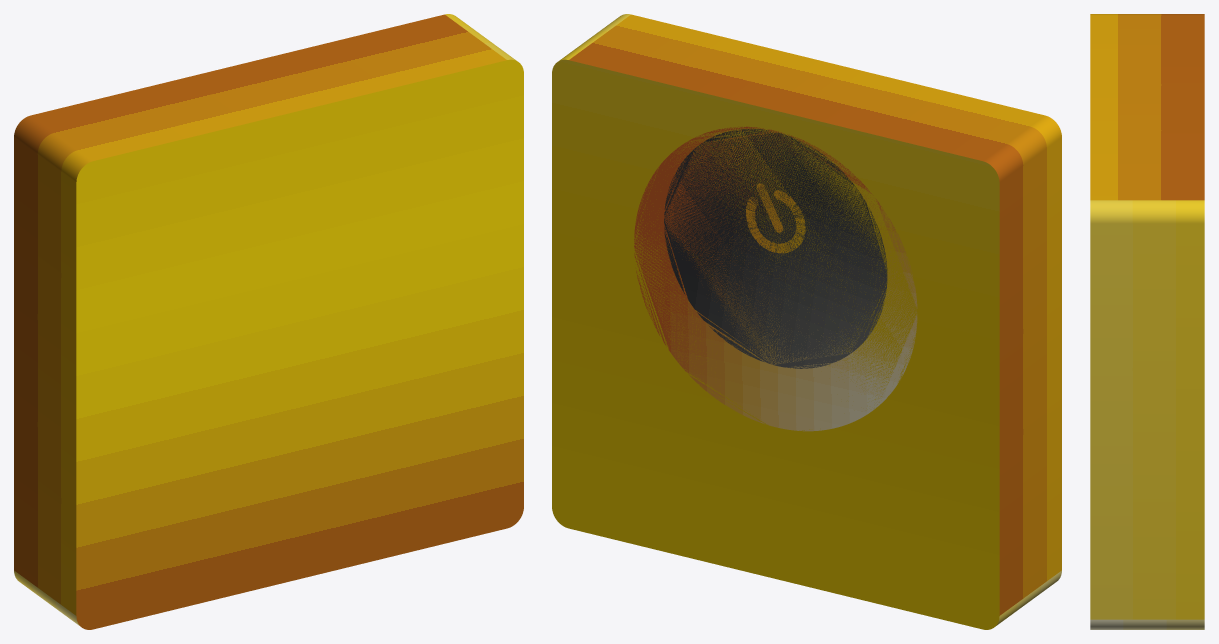
File: button.gltf
The picture shows the model from 3 angles, left to right: view 1: azimuth 30°, elevation 25°; view 2: azimuth 150°, elevation 25°; view 3: azimuth 270°, elevation 25°; orthographic projection. The views are drawn at different scales.
Size of the model in its own units: 0.0827 by 0.0827 by 0.02.
5 materials, 5 textured.
